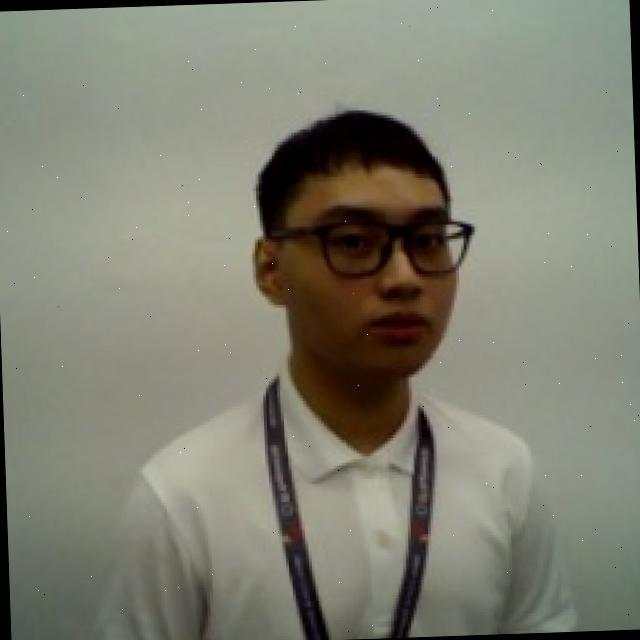no_gloves: (243, 99, 459, 228)
no_hairnet: (248, 232, 462, 398)
